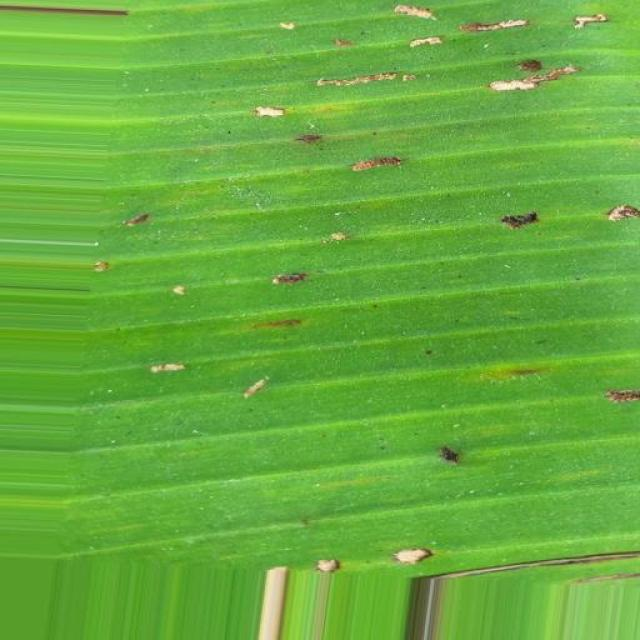Black_rot: (90, 6, 640, 625)
